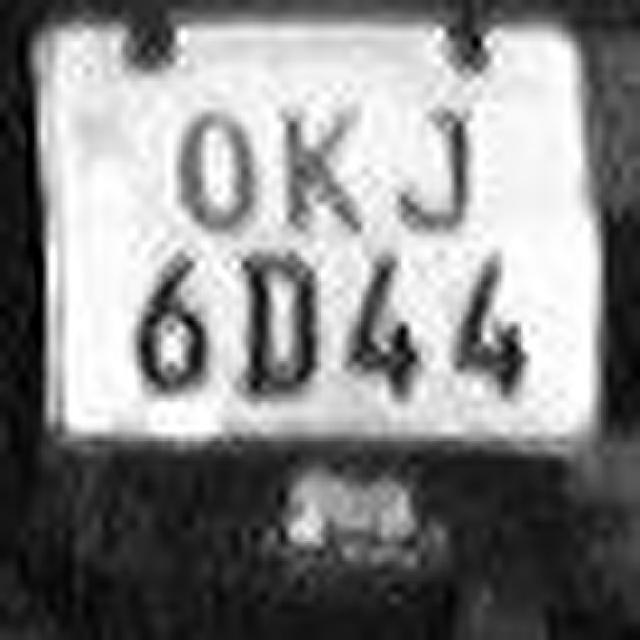4: (436, 232, 544, 416), (332, 236, 428, 409)
6: (120, 232, 225, 416)
J: (375, 84, 480, 231)
O: (152, 96, 276, 249)
